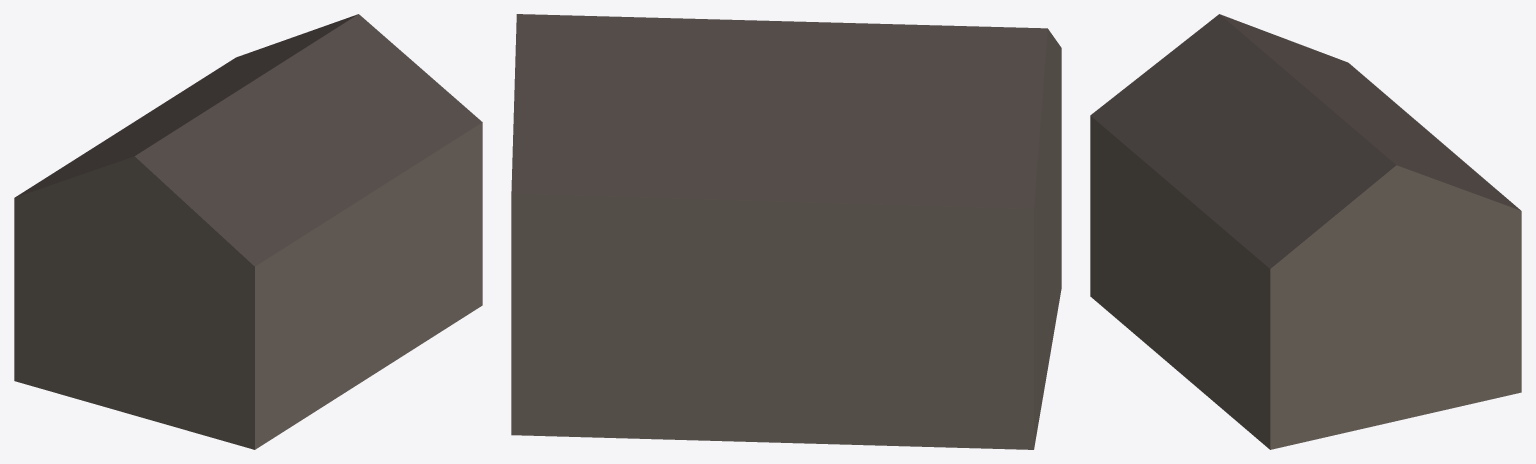
3 views of the same model, side by side, from view 1: azimuth 30°, elevation 25°; view 2: azimuth 150°, elevation 25°; view 3: azimuth 270°, elevation 25° (orthographic). The views are drawn at different scales.
Parts seen in each view (by area): view 1: HP-w505643594; view 2: HP-w505643594; view 3: HP-w505643594.
Part boxes in pixels (bbox=[...]): HP-w505643594: bbox=[14, 14, 482, 449]; HP-w505643594: bbox=[511, 14, 1061, 449]; HP-w505643594: bbox=[1090, 14, 1521, 449].
Size of the model in its own units: 14.69 by 8.49 by 12.97.
